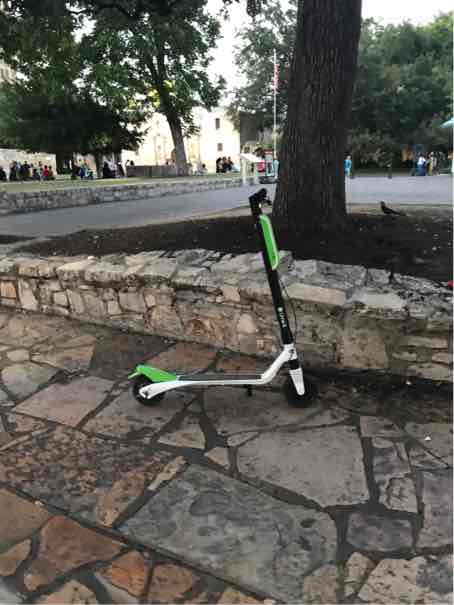scooter: (121, 170, 318, 415)
